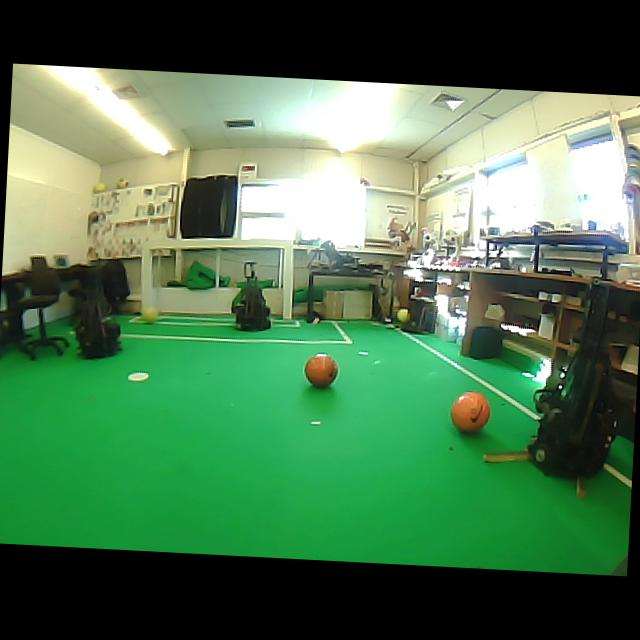ball: (451, 391, 490, 432), (304, 353, 338, 387), (142, 307, 157, 322), (397, 308, 409, 323), (93, 182, 107, 193), (117, 178, 128, 188)
goal: (282, 240, 293, 318), (141, 245, 153, 308)
robot: (529, 282, 613, 477), (75, 291, 122, 358), (233, 262, 270, 330)
